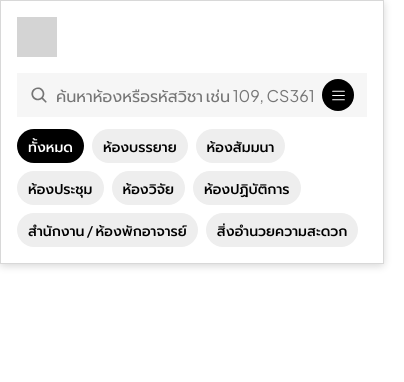
Test: RoomSearchPanel Component › only renders the schedule matching the subject query
Type "CS361" into the field with placeholder "ค้นหาห้องหรือรหัสวิชา เช่น 109, CS361" at point(185, 95), box [56,74,314,116]
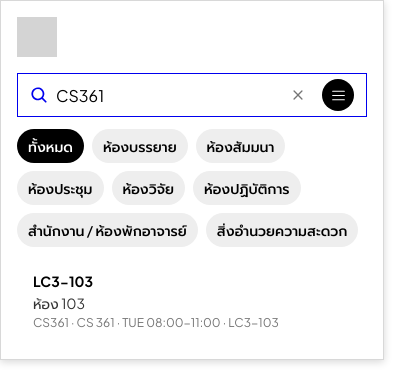
Check: the text "CS361 · CS 361 · TUE 08:00-11:00 · LC3-103" is shown, box [33,315,279,331]
